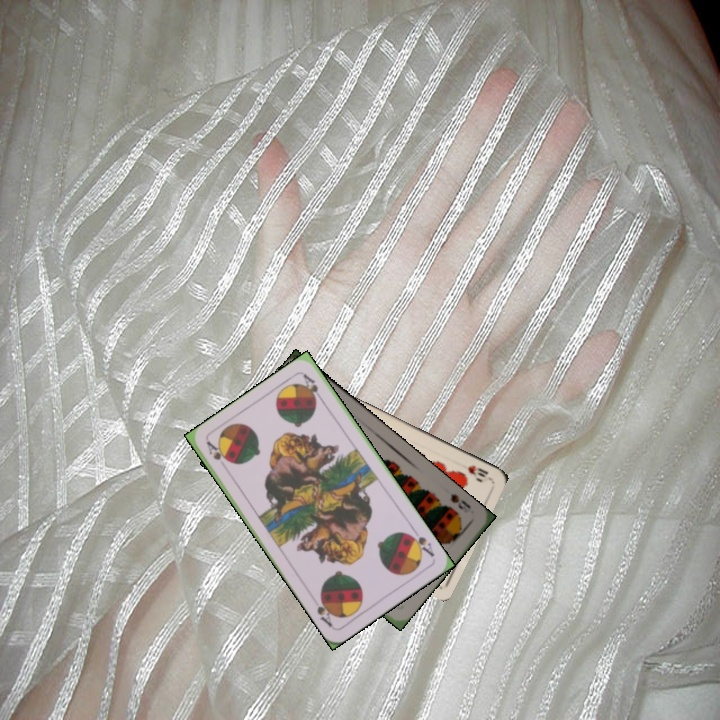H10: (464, 461, 491, 480)
S8: (446, 489, 474, 515)
SA: (404, 525, 437, 559), (202, 437, 230, 465)
